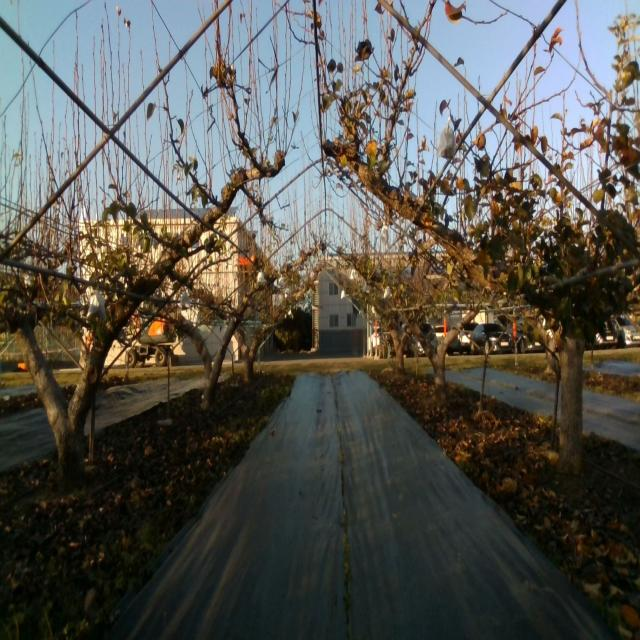pearbags: (435, 116, 456, 162), (86, 290, 107, 324), (180, 292, 192, 312)
